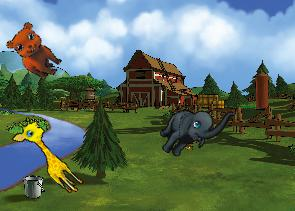bear: (1, 18, 71, 83)
elephant: (152, 85, 236, 173)
giraffe: (7, 113, 93, 197)
